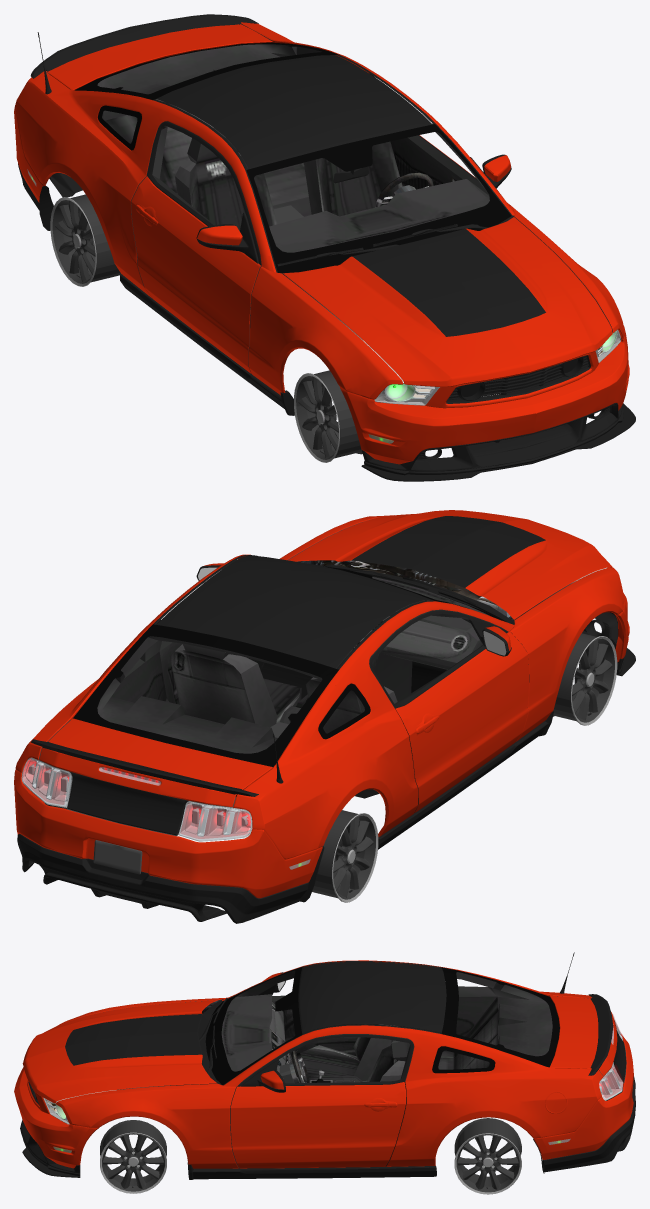
File: 2012_ford_mustang_boss_302.glb
The picture shows the model from 3 angles, top to bottom: view 1: azimuth 30°, elevation 25°; view 2: azimuth 150°, elevation 25°; view 3: azimuth 270°, elevation 25°; orthographic projection. The views are drawn at different scales.
Parts seen in each view (by area): view 1: _lod11, _lod16, _lod14, _lod15, _lod12, _lod10; view 2: _lod11, _lod16, _lod14, _lod12, _lod15, _lod10, _lod0, _lod13; view 3: _lod11, _lod16, _lod14, _lod12, _lod15, _lod10, _lod0.
Boxes of the visible parts, bbox=[...] form: _lod11: bbox=[14, 22, 629, 464]; _lod16: bbox=[18, 14, 635, 481]; _lod14: bbox=[46, 24, 612, 383]; _lod15: bbox=[75, 42, 511, 272]; _lod12: bbox=[50, 194, 607, 462]; _lod10: bbox=[27, 169, 621, 443]; _lod11: bbox=[14, 510, 629, 898]; _lod16: bbox=[17, 516, 635, 923]; _lod14: bbox=[38, 522, 607, 836]; _lod12: bbox=[52, 633, 617, 902]; _lod15: bbox=[73, 555, 506, 767]; _lod10: bbox=[21, 757, 310, 869]; _lod0: bbox=[22, 761, 309, 869]; _lod13: bbox=[93, 840, 142, 874]; _lod11: bbox=[14, 960, 633, 1168]; _lod16: bbox=[20, 952, 635, 1179]; _lod14: bbox=[56, 970, 626, 1167]; _lod12: bbox=[100, 1118, 521, 1194]; _lod15: bbox=[205, 967, 559, 1084]; _lod10: bbox=[43, 1021, 623, 1152]; _lod0: bbox=[47, 1015, 623, 1152].
Size of what is drawn, in the model's own units: 0.0204 by 0.0132 by 0.0478.
Materials: 10 (4 with a texture image).
